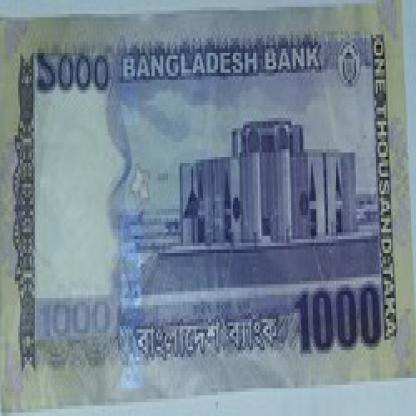One Thousand taka: (290, 288, 384, 357), (33, 48, 110, 100), (38, 298, 115, 336)
